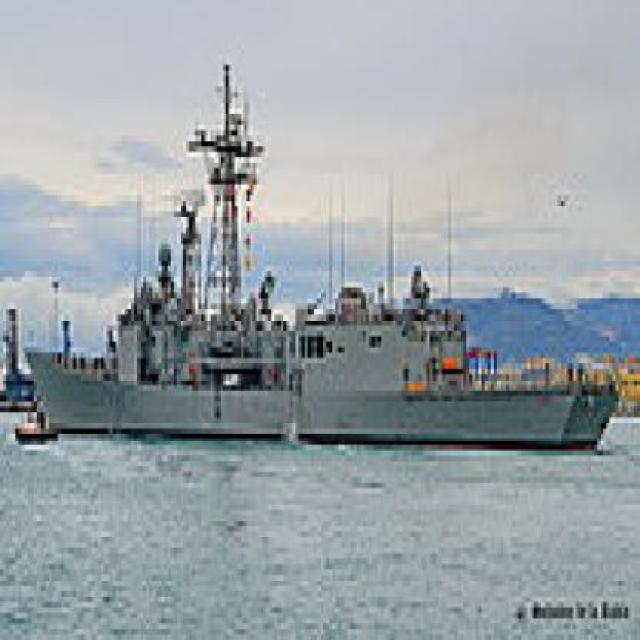warship2: (25, 104, 623, 456)
